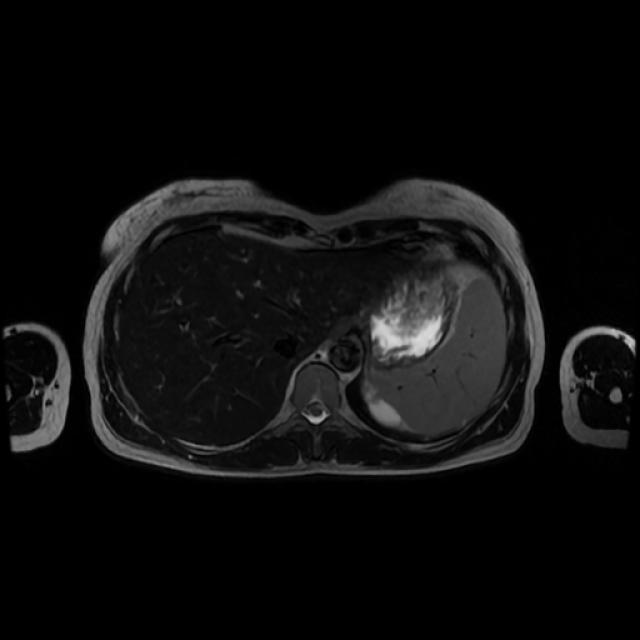sol: (366, 388, 400, 426)
